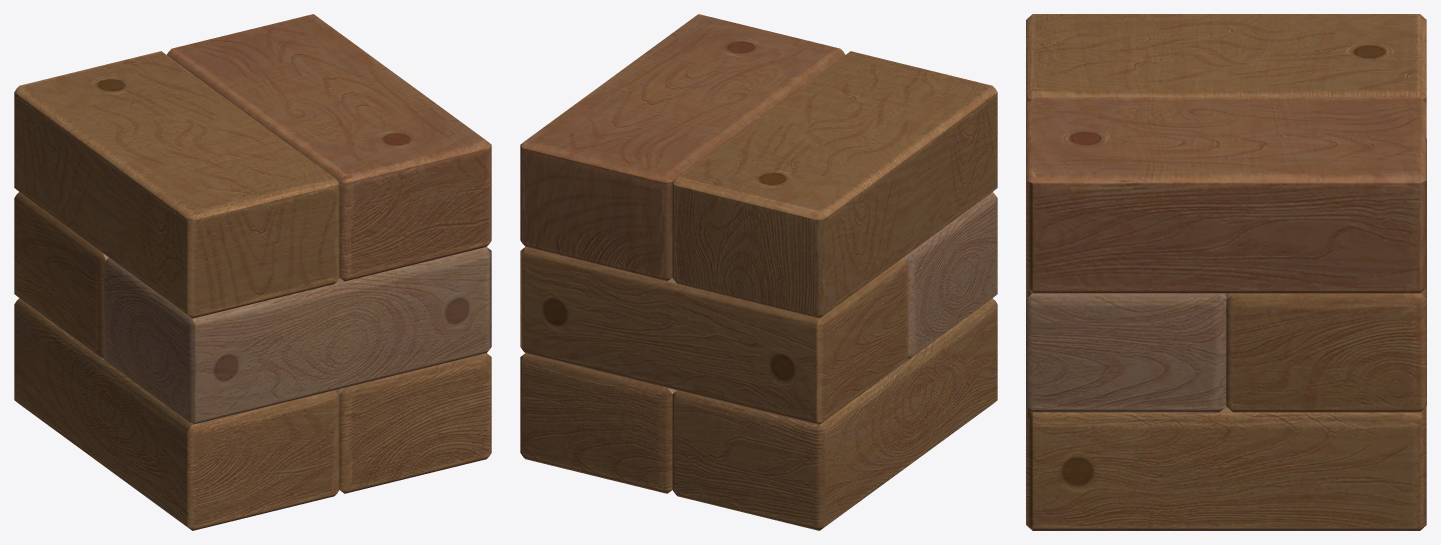
The picture shows the model from 3 angles, left to right: view 1: azimuth 30°, elevation 25°; view 2: azimuth 150°, elevation 25°; view 3: azimuth 270°, elevation 25°; orthographic projection. The views are drawn at different scales.
Parts seen in each view (by area): view 1: node_id29; view 2: node_id29; view 3: node_id29.
Boxes of the visible parts, x1,y1,x2,y2 form: node_id29: [14, 14, 491, 530]; node_id29: [520, 14, 997, 530]; node_id29: [1026, 14, 1426, 530].
Bounding box in the file's own units: 0.512 × 0.512 × 0.522.
Materials: 1 (1 with a texture image).
